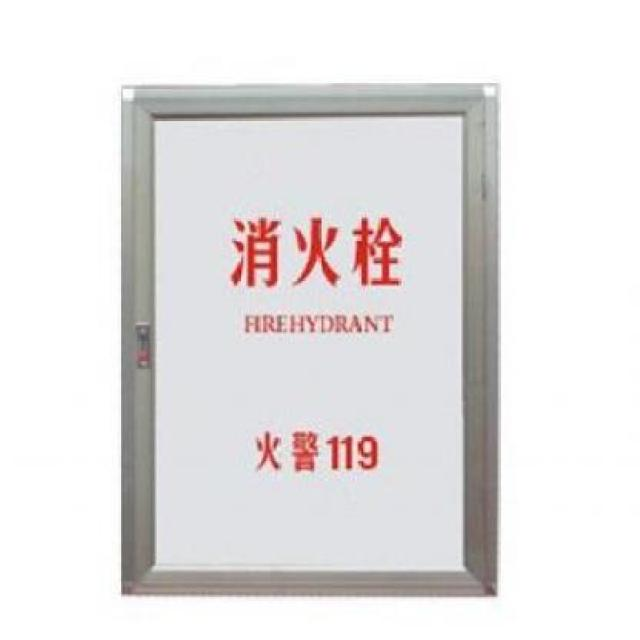firehydrant: (114, 75, 504, 603)
